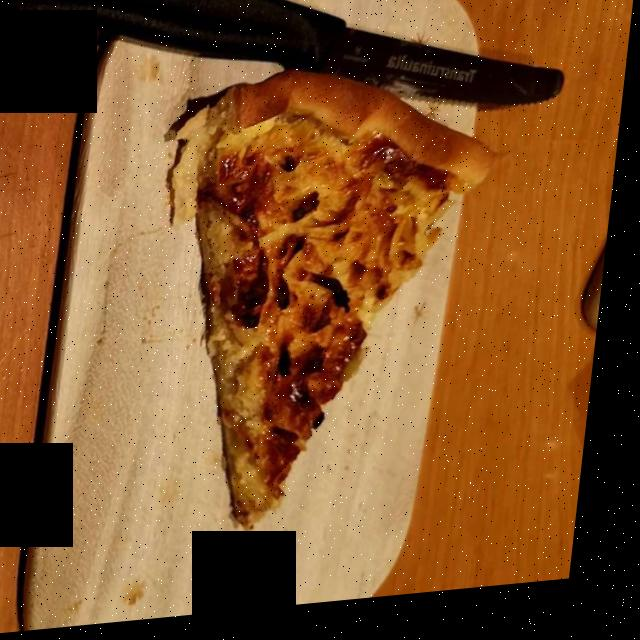apple-pie: (192, 82, 498, 517)
